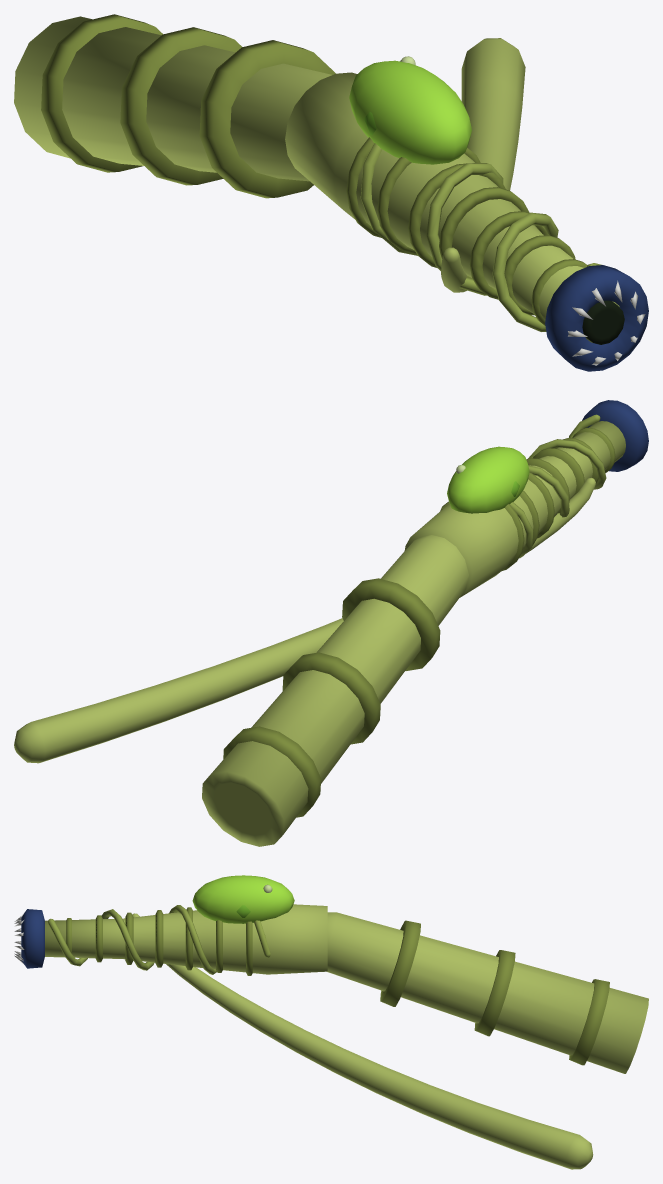
Rendered from pseudomonas.glb.
The picture shows the model from 3 angles, top to bottom: view 1: azimuth 30°, elevation 25°; view 2: azimuth 150°, elevation 25°; view 3: azimuth 270°, elevation 25°; orthographic projection. The views are drawn at different scales.
Parts seen in each view (by area): view 1: w_pseudomonas.arm_r, w_pseudomonas.body, w_pseudomonas.sac, w_pseudomonas.arm_l; view 2: w_pseudomonas.arm_r, w_pseudomonas.body, w_pseudomonas.arm_l, w_pseudomonas.sac; view 3: w_pseudomonas.arm_r, w_pseudomonas.body, w_pseudomonas.arm_l, w_pseudomonas.sac.
Part boxes in pixels (x1,y1,x2,y2): w_pseudomonas.arm_r: [14, 14, 335, 198]; w_pseudomonas.body: [285, 72, 648, 371]; w_pseudomonas.sac: [349, 56, 471, 164]; w_pseudomonas.arm_l: [441, 38, 525, 292]; w_pseudomonas.arm_r: [202, 535, 468, 846]; w_pseudomonas.body: [404, 400, 648, 597]; w_pseudomonas.arm_l: [14, 477, 595, 763]; w_pseudomonas.sac: [447, 446, 529, 513]; w_pseudomonas.arm_r: [327, 912, 648, 1073]; w_pseudomonas.body: [14, 904, 327, 975]; w_pseudomonas.arm_l: [132, 913, 593, 1169]; w_pseudomonas.sac: [192, 875, 294, 923].
Bounding box in the file's own units: 0.5084 × 0.3454 × 1.06.
